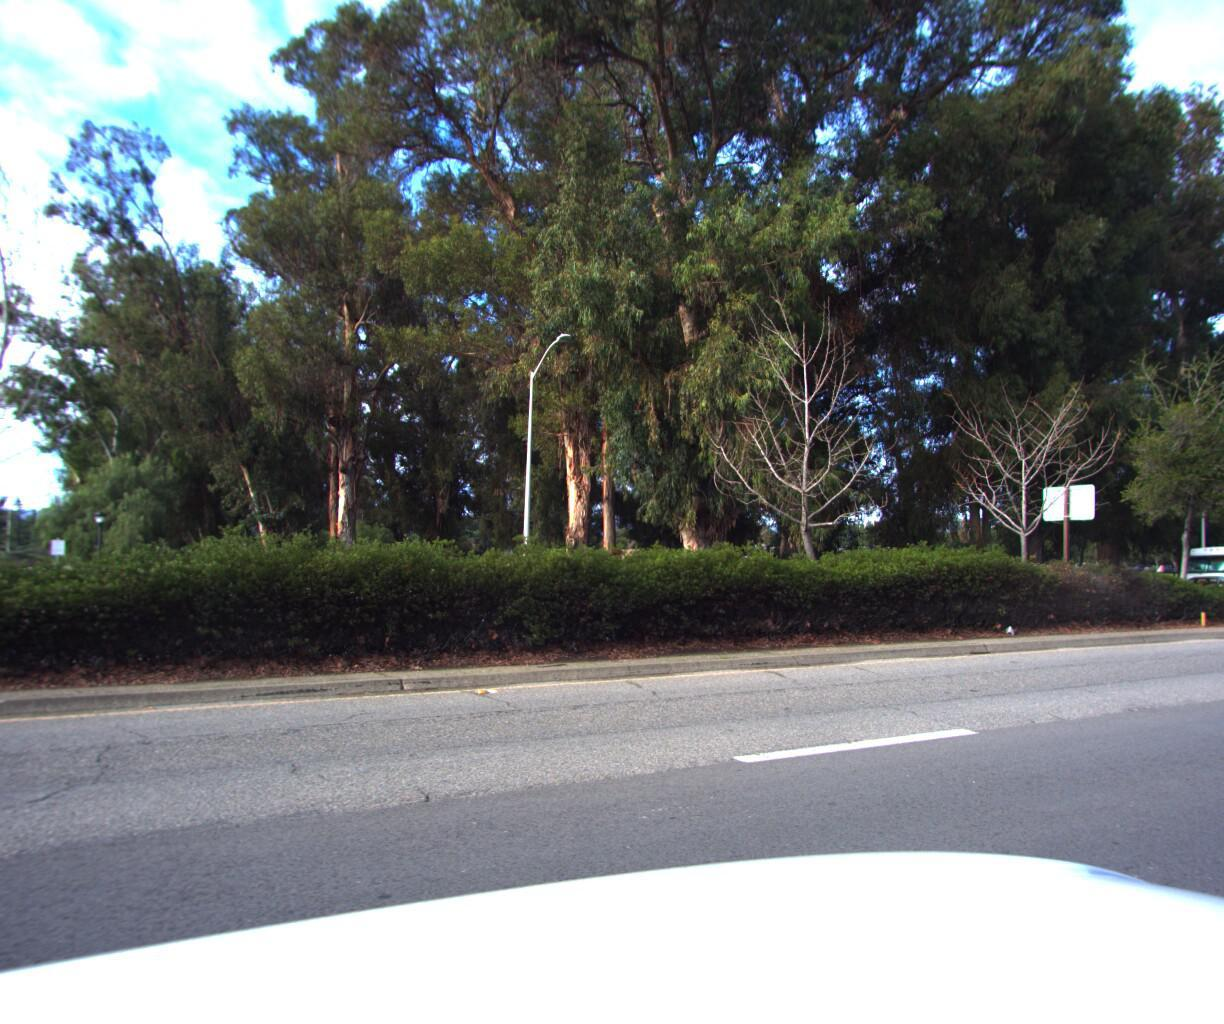car: (1185, 569, 1224, 599)
other_vehicle: (1167, 533, 1224, 600)
